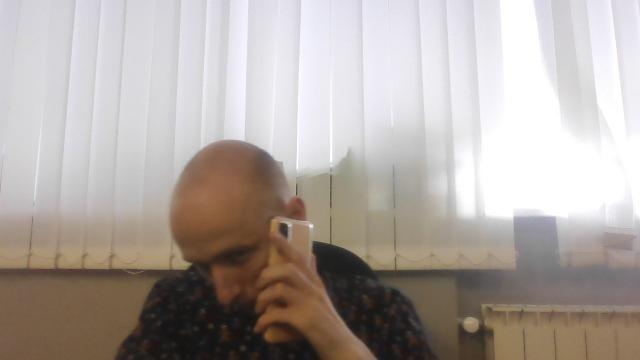PhoneUse: (254, 213, 316, 345)
